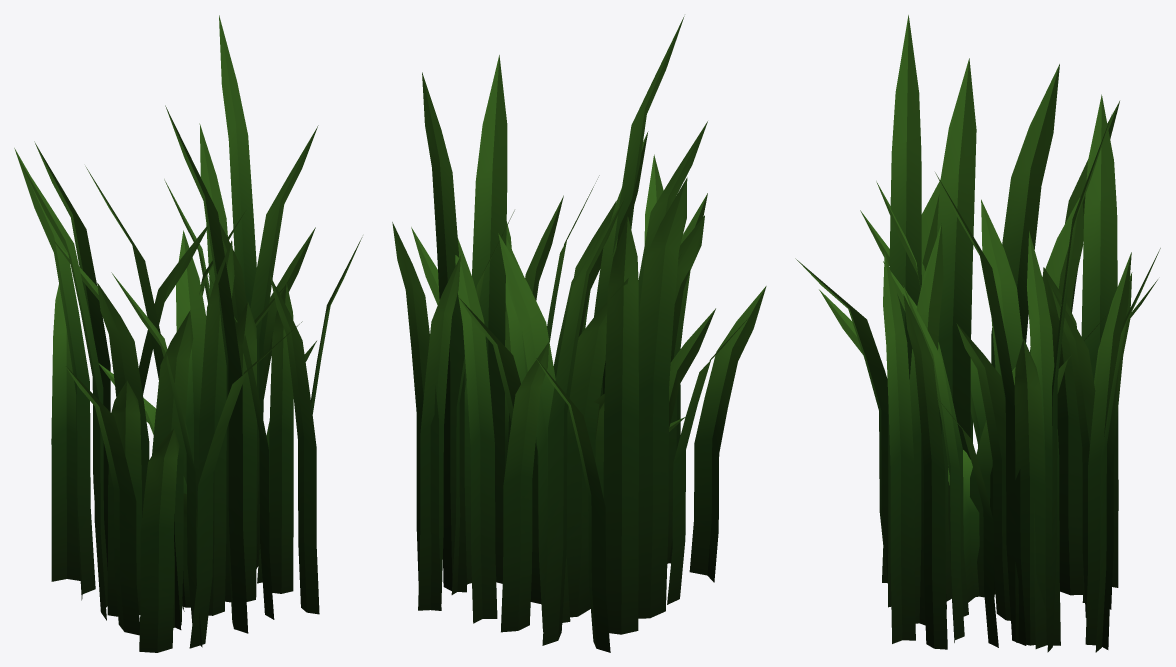
The model's file is TallGrass4.fbx.
The picture shows the model from 3 angles, left to right: view 1: azimuth 30°, elevation 25°; view 2: azimuth 150°, elevation 25°; view 3: azimuth 270°, elevation 25°; orthographic projection. The views are drawn at different scales.
Visible parts, largest first — view 1: Tall_Grass_4; view 2: Tall_Grass_4; view 3: Tall_Grass_4.
Boxes of the visible parts, left/top/right/bottom form: Tall_Grass_4: left=14, top=15, right=362, bottom=652; Tall_Grass_4: left=392, top=16, right=766, bottom=652; Tall_Grass_4: left=795, top=15, right=1160, bottom=652.
Size of the model in its own units: 151 by 269 by 161.
